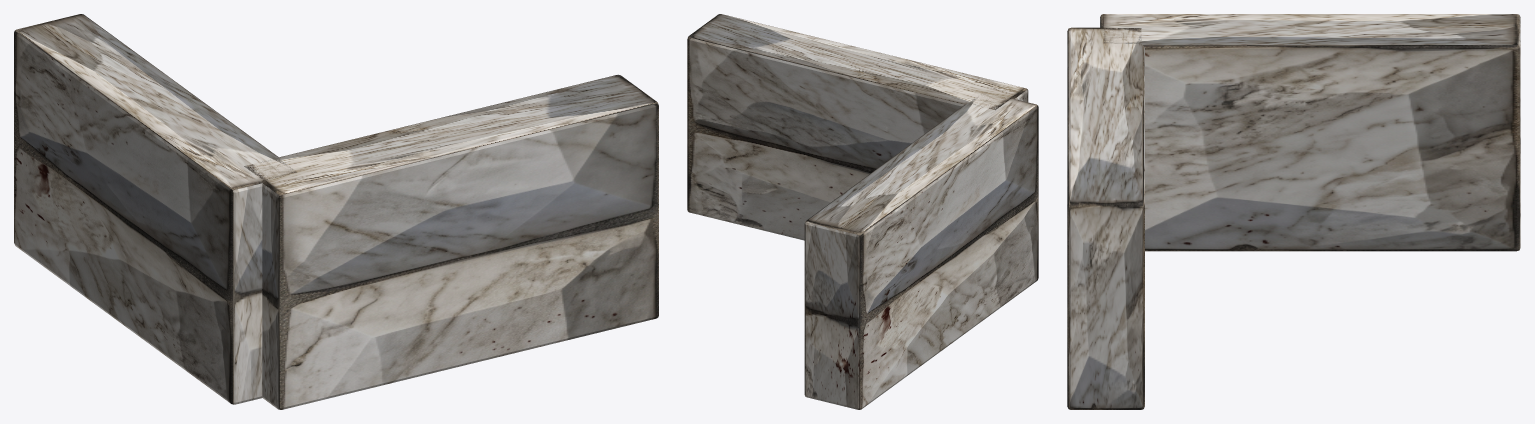
The model's file is balustrade_vault_corner_LOD2.glb.
The picture shows the model from 3 angles, left to right: view 1: azimuth 30°, elevation 25°; view 2: azimuth 150°, elevation 25°; view 3: azimuth 270°, elevation 25°; orthographic projection. The views are drawn at different scales.
Parts seen in each view (by area): view 1: LOD2_XArm, LOD2_YArm; view 2: LOD2_YArm, LOD2_XArm; view 3: LOD2_YArm, LOD2_XArm.
Part boxes in pixels (box(x1,y1,x2,y2)): LOD2_XArm: box(244, 74, 658, 409); LOD2_YArm: box(14, 14, 296, 404); LOD2_YArm: box(804, 93, 1038, 409); LOD2_XArm: box(687, 14, 1028, 240); LOD2_YArm: box(1100, 14, 1520, 251); LOD2_XArm: box(1067, 27, 1144, 409).
Bounding box in the file's own units: 2.22 × 1.12 × 2.22.
1 material, 1 textured.
